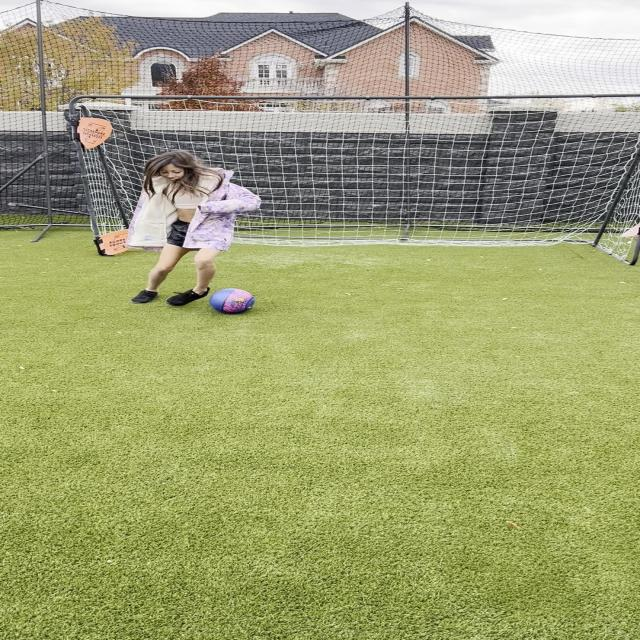Soccer Ball: (211, 289, 255, 314)
